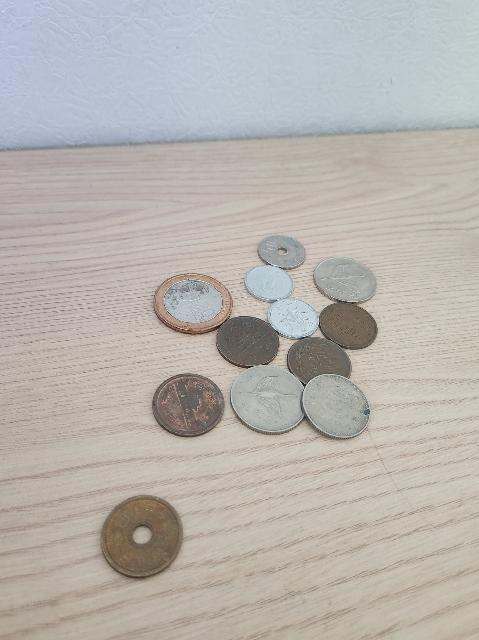coin: (103, 494, 181, 576), (231, 364, 309, 434), (155, 271, 233, 331), (302, 371, 370, 439), (152, 372, 224, 436), (286, 336, 352, 390), (312, 300, 380, 350), (310, 252, 378, 302), (218, 316, 278, 366), (269, 296, 319, 338), (256, 233, 310, 269), (249, 264, 294, 302)
